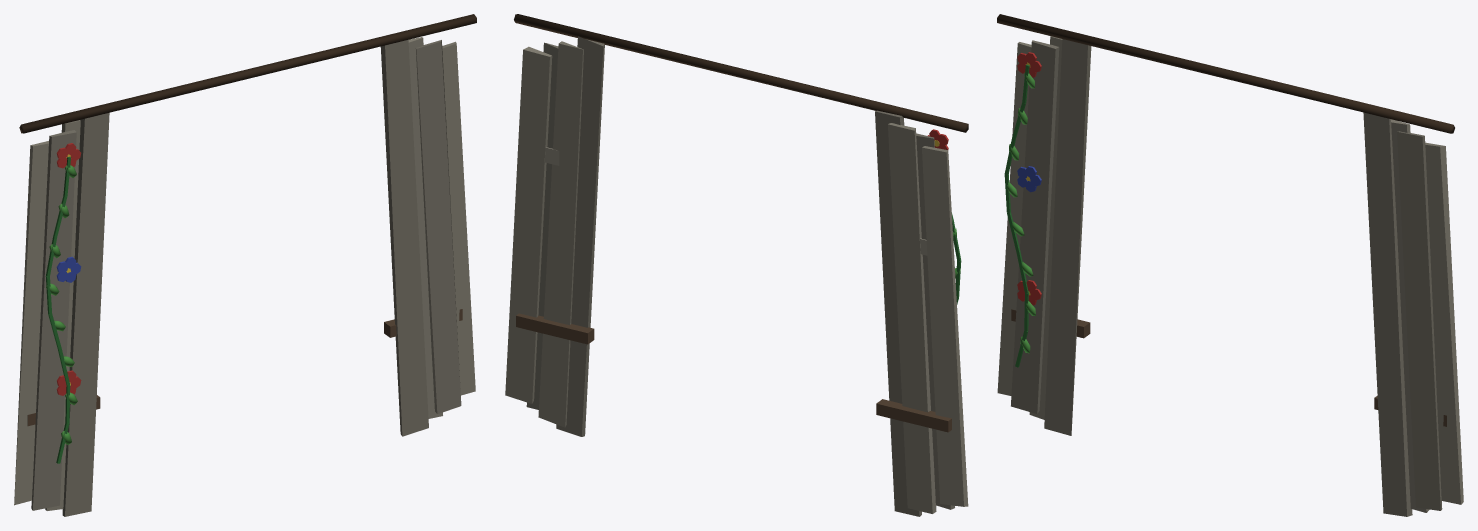
File: curtains_threadbare.glb
3 views of the same model, side by side, from view 1: azimuth 30°, elevation 25°; view 2: azimuth 150°, elevation 25°; view 3: azimuth 330°, elevation 25° (orthographic).
Parts seen in each view (by area): view 1: curtains_threadbare; view 2: curtains_threadbare; view 3: curtains_threadbare.
Part boxes in pixels (bbox=[...]): curtains_threadbare: bbox=[14, 14, 476, 516]; curtains_threadbare: bbox=[505, 14, 968, 516]; curtains_threadbare: bbox=[997, 14, 1463, 516].
Bounding box in the file's own units: 1.28 × 1.07 × 0.0938.
